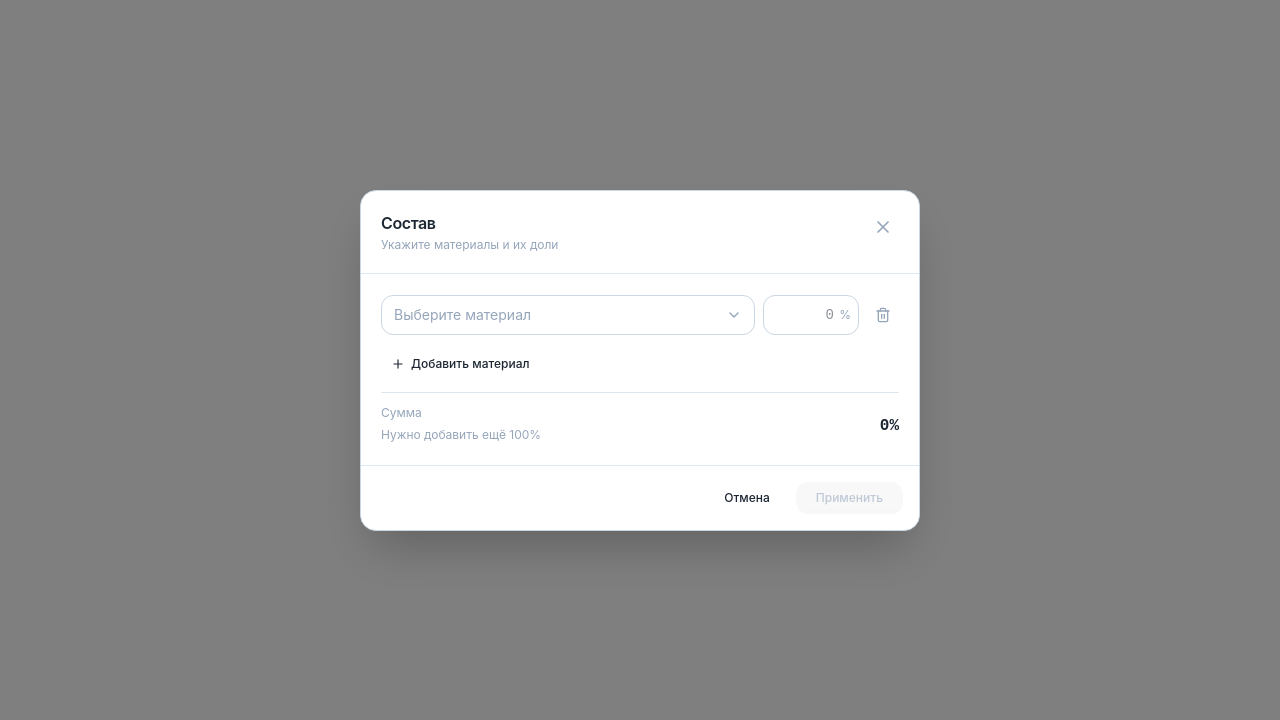
it: ProductStudioCompositionModal › B: "Добавить материал" adds a new editable row and opens combobox
The width and height of the screenshot is (1280, 720).
Check: the element with test id "composition-row-0" is shown, box [381,294,899,336]
What coordinates should you click on to do the following:
click the button with test id "add-material-row-button"
I would click on:
 (460, 364)
Its box is [381,350,540,378].
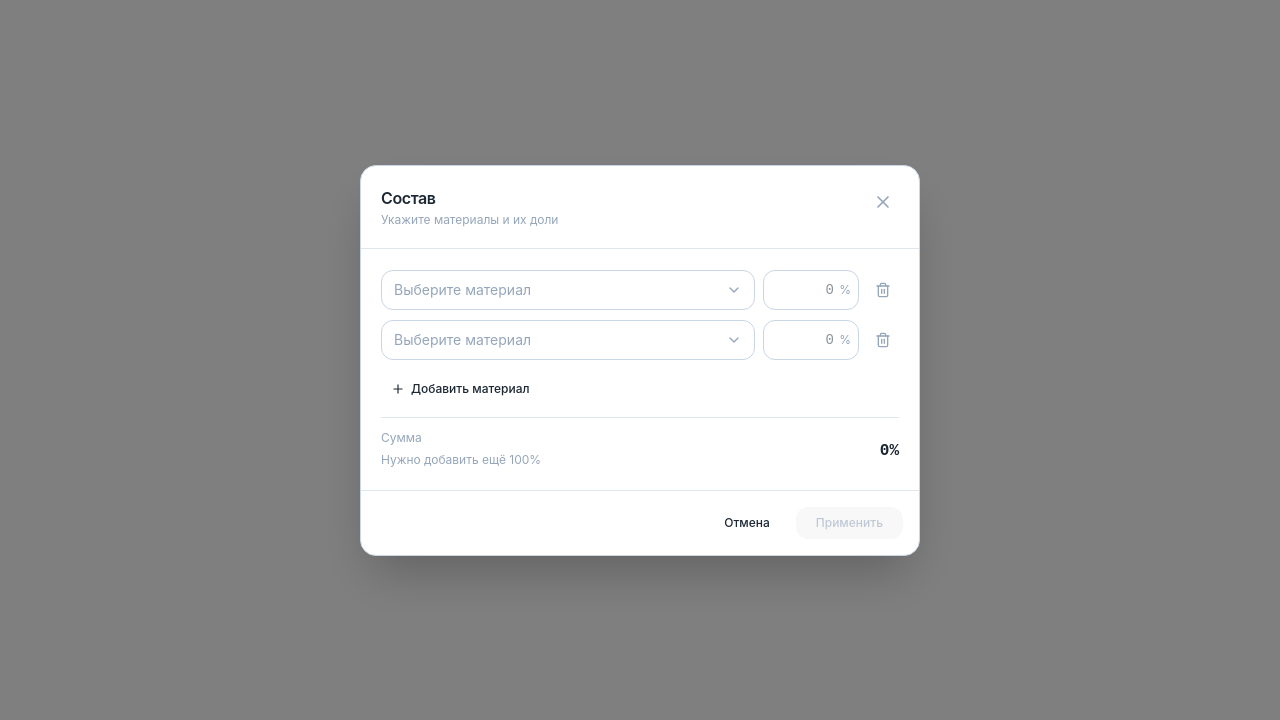
Check: the element with test id "composition-row-1" is shown, box [381,318,899,360]
Check: the dropdown with test id "composition-material-trigger-1" is shown, box [381,320,755,360]
Check: the field with test id "composition-percentage-input-1" is shown, box [763,320,859,360]
